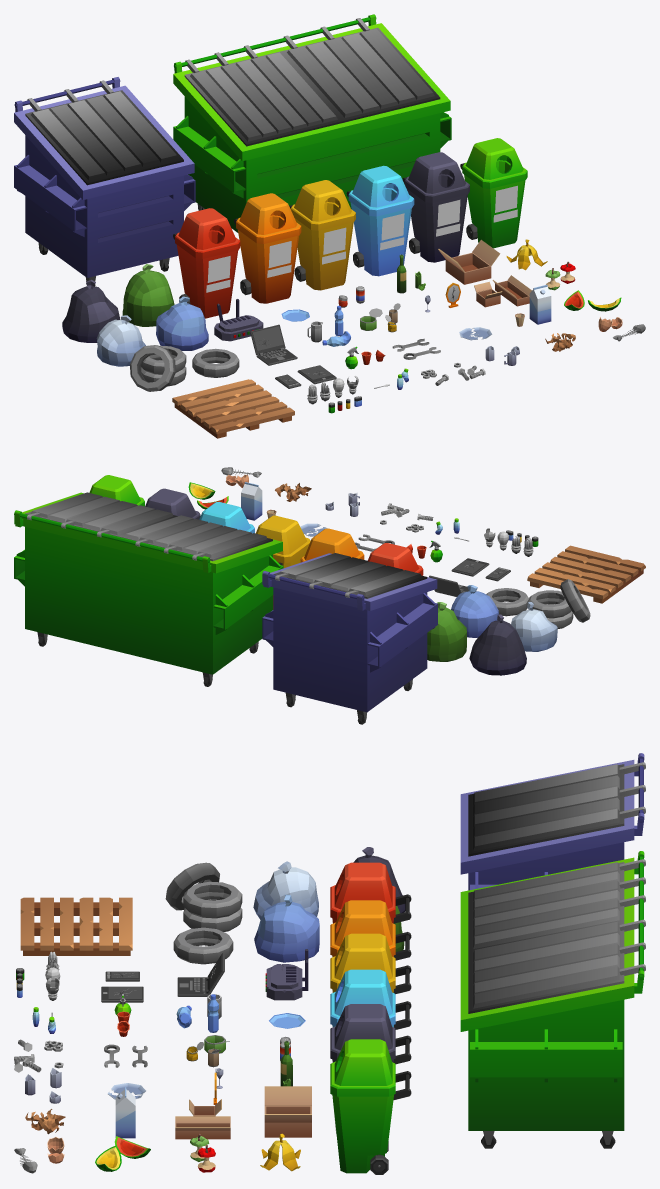
Rendered from allGarbages.fbx.
3 views of the same model, one above another, from view 1: azimuth 30°, elevation 25°; view 2: azimuth 150°, elevation 25°; view 3: azimuth 270°, elevation 25° (orthographic). The views are drawn at different scales.
Parts seen in each view (by area): view 1: Cube.029, Cube.034, Cube.036, Cube.035, Cube.033, Cube.001, Cube.006, Cube.004, Cube.003, Cube.005, Cube.002, Cube.014 (+11 smaller); view 2: Cube.029, Cube.034, Cube.014, Cube.036, Cube.035, Cube.033, Cube.026, Cylinder.029, Cube.024, Cube.003, Cube.027, Cube.025 (+9 smaller); view 3: Cube.029, Cube.033, Cube.035, Cube.036, Cube.006, Cube.034, Cube.014, Cylinder.029, Cube.027, Cube.002, Cube.003, Cube.005 (+11 smaller).
Part boxes in pixels (left/top/right/bottom): Cube.029: left=173, top=14, right=451, bottom=232; Cube.034: left=14, top=77, right=195, bottom=286; Cube.036: left=184, top=45, right=343, bottom=146; Cube.035: left=25, top=80, right=183, bottom=185; Cube.033: left=281, top=18, right=440, bottom=122; Cube.001: left=234, top=193, right=301, bottom=303; Cube.006: left=460, top=138, right=527, bottom=248; Cube.004: left=346, top=165, right=414, bottom=276; Cube.003: left=289, top=180, right=355, bottom=290; Cube.005: left=402, top=152, right=469, bottom=262; Cube.002: left=173, top=208, right=240, bottom=318; Cube.014: left=172, top=379, right=294, bottom=438; Cube.029: left=14, top=492, right=283, bottom=686; Cube.034: left=262, top=553, right=437, bottom=724; Cube.014: left=527, top=545, right=645, bottom=603; Cube.036: left=119, top=515, right=272, bottom=561; Cube.035: left=273, top=553, right=427, bottom=598; Cube.033: left=25, top=492, right=177, bottom=537; Cube.026: left=469, top=614, right=526, bottom=675; Cylinder.029: left=528, top=579, right=590, bottom=628; Cube.024: left=427, top=602, right=466, bottom=661; Cube.003: left=256, top=515, right=310, bottom=609; Cube.027: left=451, top=585, right=498, bottom=637; Cube.025: left=511, top=602, right=557, bottom=651; Cube.029: left=460, top=851, right=644, bottom=1148; Cube.033: left=468, top=919, right=645, bottom=1013; Cube.035: left=468, top=762, right=645, bottom=856; Cube.036: left=468, top=859, right=645, bottom=952; Cube.006: left=330, top=1039, right=411, bottom=1174; Cube.034: left=460, top=753, right=644, bottom=890; Cube.014: left=20, top=897, right=132, bottom=955; Cylinder.029: left=165, top=862, right=242, bottom=931; Cube.027: left=254, top=894, right=319, bottom=962; Cube.002: left=330, top=862, right=411, bottom=923; Cube.003: left=330, top=933, right=411, bottom=993; Cube.005: left=330, top=1004, right=411, bottom=1064.
Bounding box in the file's own units: 792 × 247 × 765.
